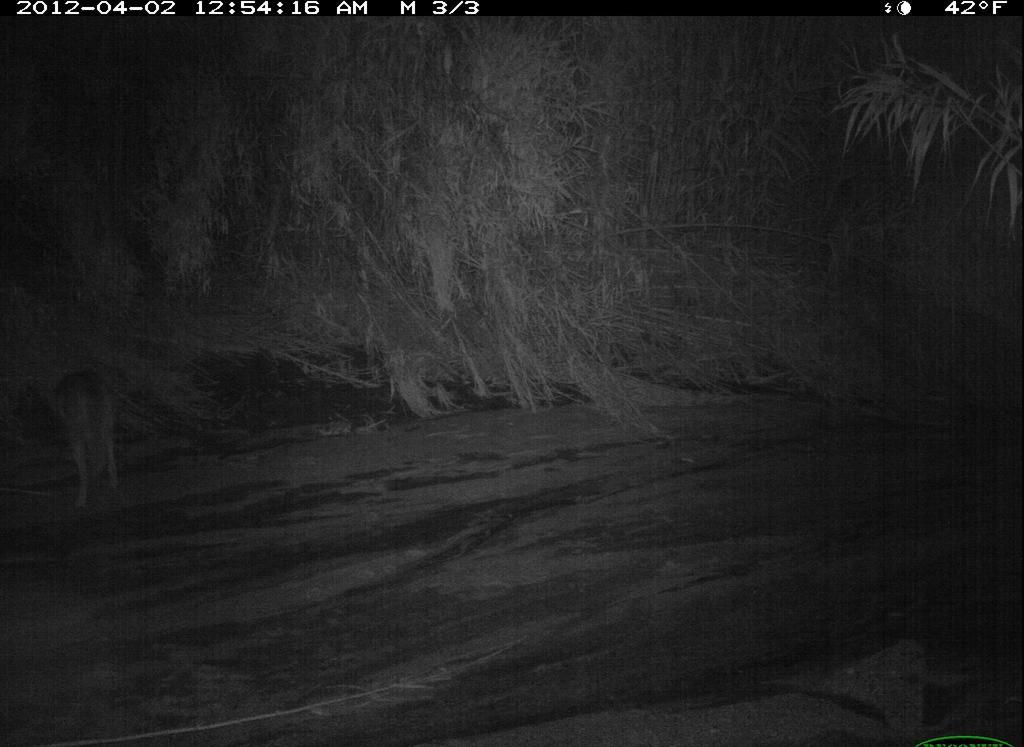coyote: (44, 361, 135, 519)
